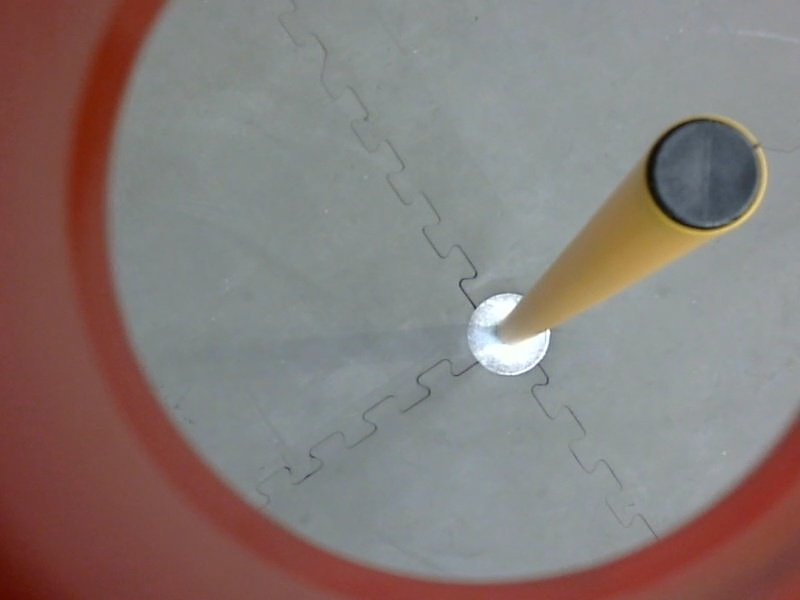tip: (639, 106, 773, 246)
